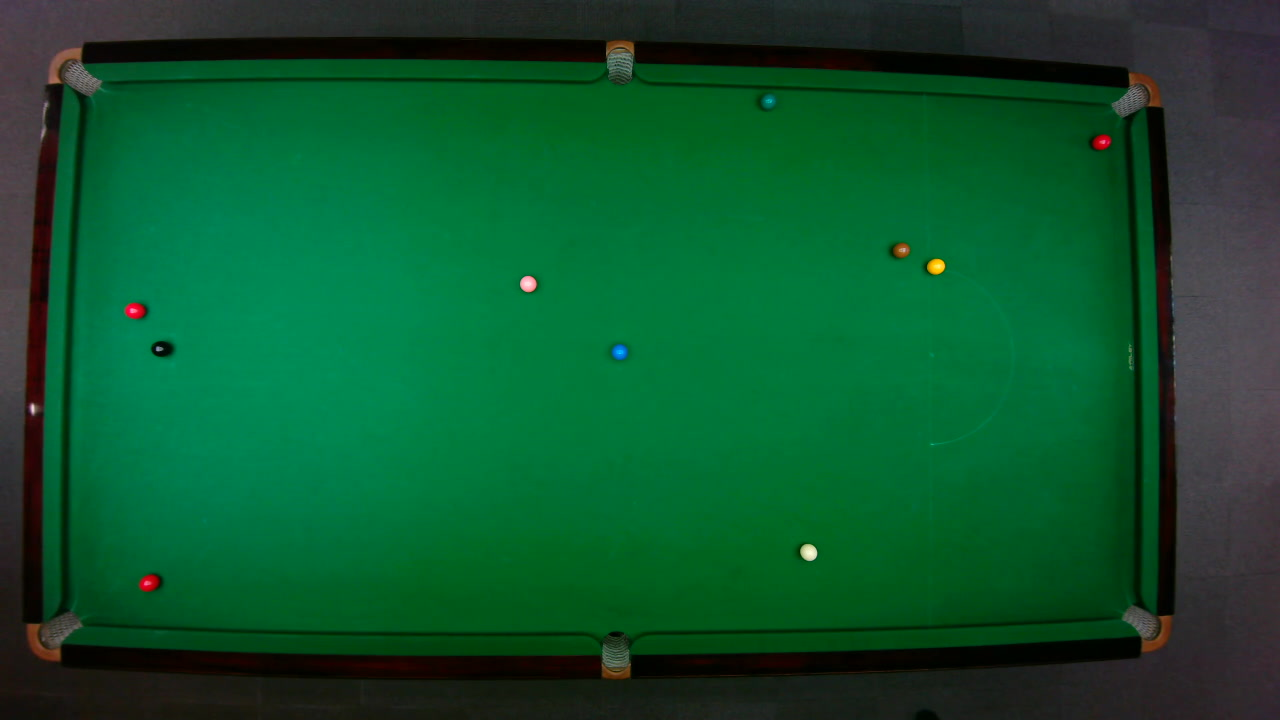bag: (25, 609, 83, 661), (45, 46, 102, 96), (1119, 603, 1172, 652), (1108, 71, 1161, 117), (600, 629, 629, 680), (605, 38, 633, 85)
black: (149, 339, 171, 357)
blue: (610, 343, 628, 360)
brown: (890, 241, 911, 258)
green: (759, 92, 776, 110)
pink: (518, 274, 537, 292)
red: (137, 572, 161, 592), (123, 301, 146, 319), (1090, 132, 1112, 150)
white: (798, 541, 818, 561)
yellow: (925, 256, 946, 274)
zone: (927, 263, 1013, 445)
